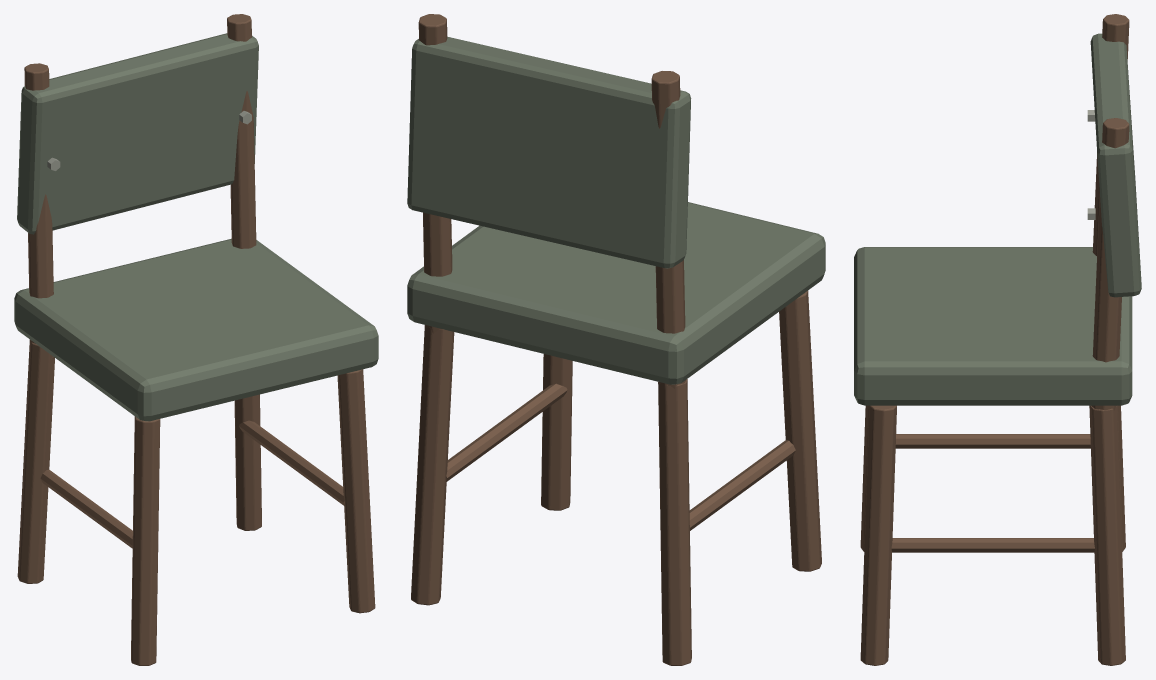
Rendered from chair.glb.
3 renders of one model, left to right at view 1: azimuth 30°, elevation 25°; view 2: azimuth 150°, elevation 25°; view 3: azimuth 270°, elevation 25°, orthographic. The views are drawn at different scales.
Visible parts, largest first — view 1: chair; view 2: chair; view 3: chair.
Part boxes in pixels (x1,y1,x2,y2): chair: (14,14,378,665); chair: (407,14,825,665); chair: (854,14,1141,665).
Bounding box in the file's own units: 0.4533 × 0.9117 × 0.4446.
